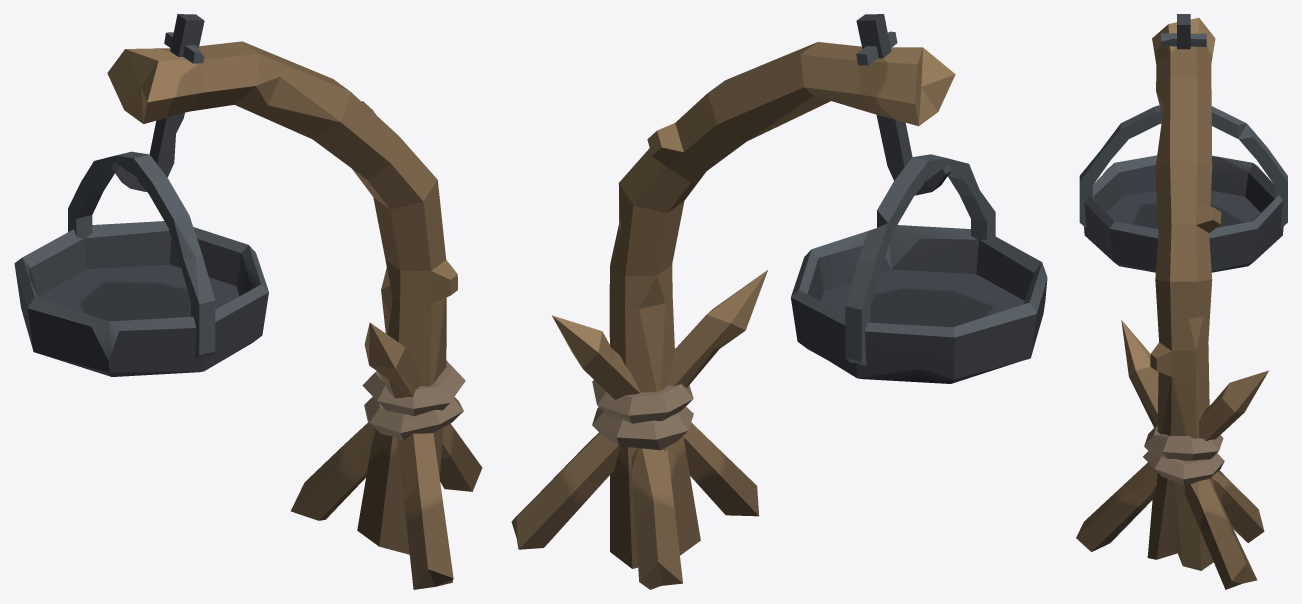
The model's file is SM_Prop_Cooking_Stand_01.fbx.
3 views of the same model, side by side, from view 1: azimuth 30°, elevation 25°; view 2: azimuth 150°, elevation 25°; view 3: azimuth 270°, elevation 25° (orthographic). The views are drawn at different scales.
Visible parts, largest first — view 1: SM_Prop_Cooking_Stand_01; view 2: SM_Prop_Cooking_Stand_01; view 3: SM_Prop_Cooking_Stand_01.
Boxes of the visible parts, x1,y1,x2,y2 form: SM_Prop_Cooking_Stand_01: (14, 14, 482, 589); SM_Prop_Cooking_Stand_01: (511, 14, 1047, 589); SM_Prop_Cooking_Stand_01: (1076, 14, 1287, 589).
Size of the model in its own units: 109 by 124 by 52.1.
